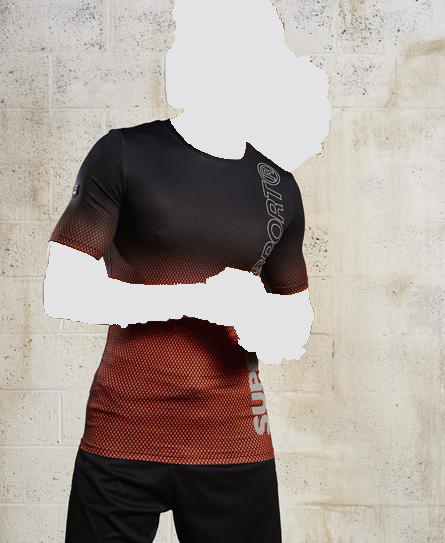teeshirt: (47, 113, 314, 462)
